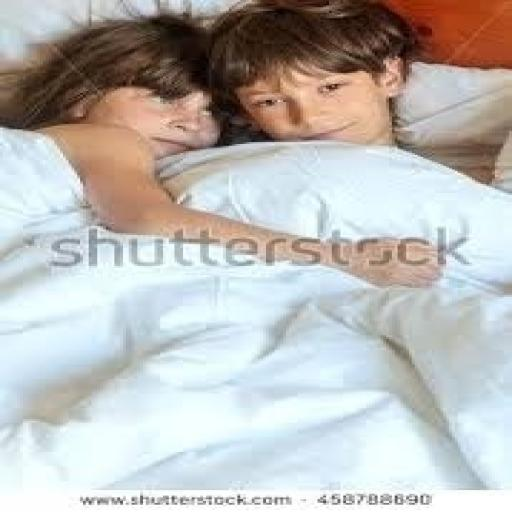sleeping: (0, 0, 509, 490)
